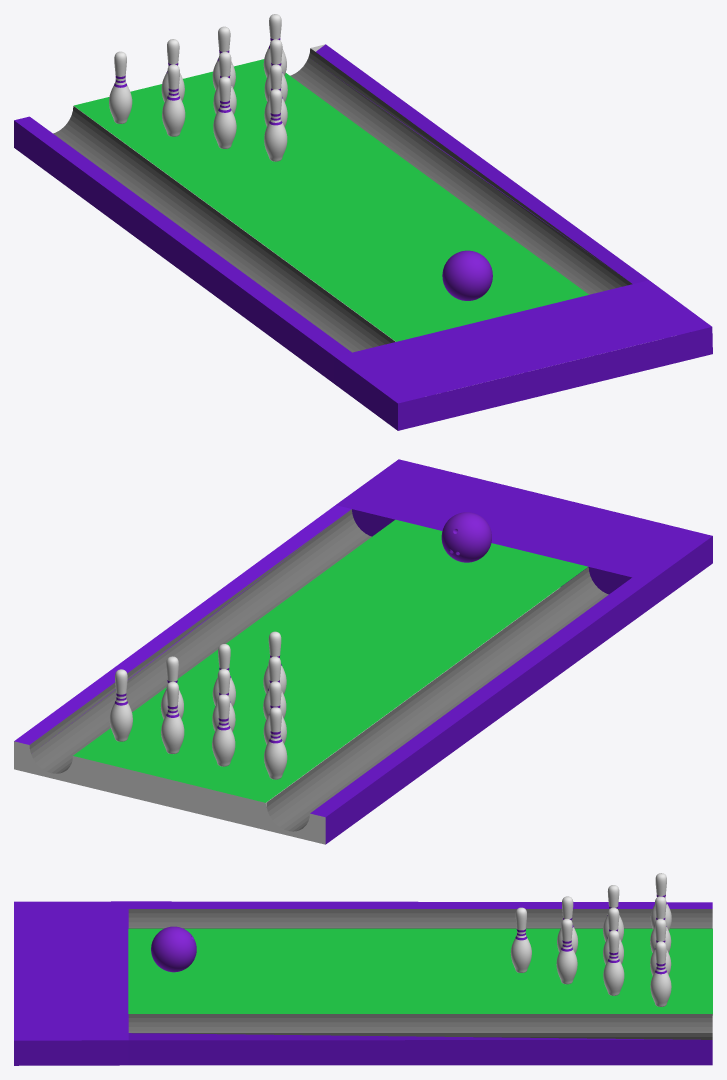
The model's file is BowlingSetup.gltf.
3 views of the same model, one above another, from view 1: azimuth 30°, elevation 25°; view 2: azimuth 150°, elevation 25°; view 3: azimuth 270°, elevation 25° (orthographic). The views are drawn at different scales.
Parts seen in each view (by area): view 1: node-0; view 2: node-0; view 3: node-0.
Boxes of the visible parts, x1=… form: node-0: x1=14, y1=14, x2=712, y2=430; node-0: x1=14, y1=459, x2=712, y2=844; node-0: x1=14, y1=873, x2=712, y2=1065.
Size of the model in its own units: 18.03 by 5.34 by 38.26.
